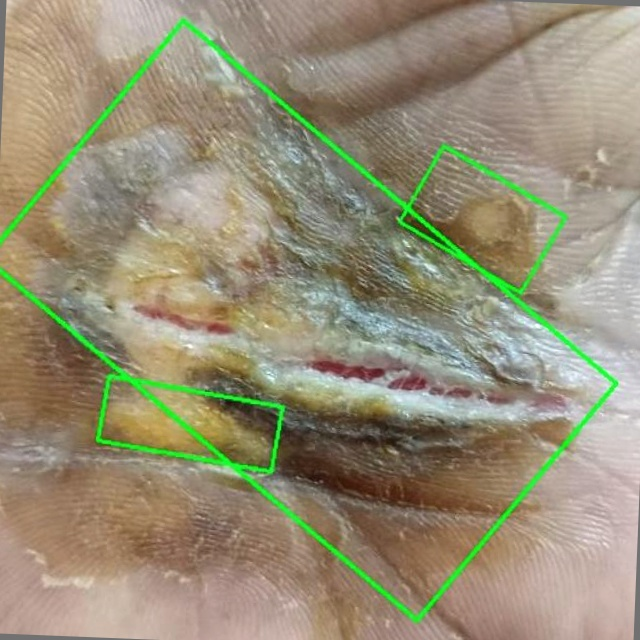Eczema: (0, 21, 615, 621), (399, 146, 564, 293), (97, 376, 282, 471)
